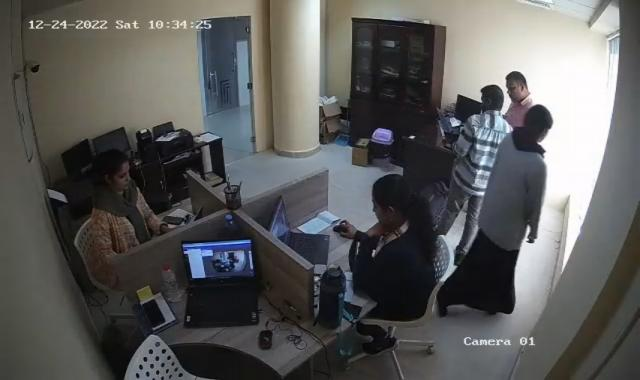no_hairnet: (368, 175, 412, 230), (102, 148, 132, 193), (524, 103, 552, 139), (476, 82, 501, 118), (505, 72, 531, 105)
